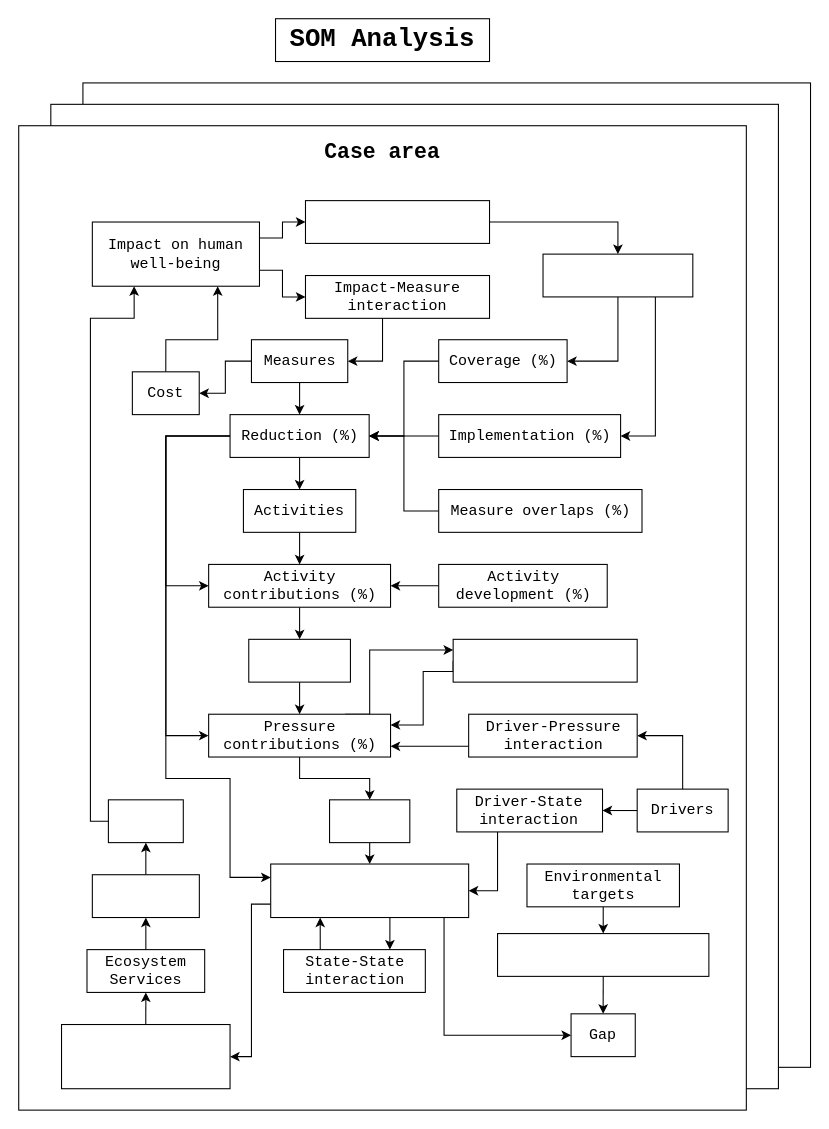
The diagram is 829 pixels wide and 1129 high, and some of its shapes have lost their labels. The centre of each missing label's shape, as x and y in pixels:
"Benefits" belongs at [145,896].
"Impact-incentive interaction" belongs at [397,221].
"Incentives (%)" belongs at [617,275].
"Pressure-Pressure interaction" belongs at [544,660].
"Pressures" belongs at [299,660].
"State-Ecosystem Services interaction" belongs at [145,1056].
"States" belongs at [369,821].
"Target reduction (%)" belongs at [602,954].
"Total pressure load reduction (%)" belongs at [369,890].
"Value" belongs at [145,821].
